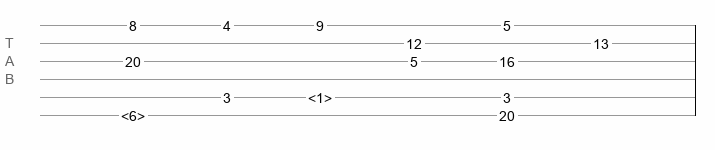12: (406, 36, 422, 46)
13: (593, 36, 609, 46)
16: (499, 54, 515, 64)
20: (125, 54, 141, 64), (499, 108, 515, 118)
3: (223, 90, 231, 100), (503, 90, 511, 100)
4: (223, 18, 231, 28)
5: (410, 54, 418, 64), (503, 18, 511, 28)
8: (129, 18, 137, 28)
9: (316, 18, 324, 28)
harmonic: (121, 108, 145, 118), (308, 90, 332, 100)
